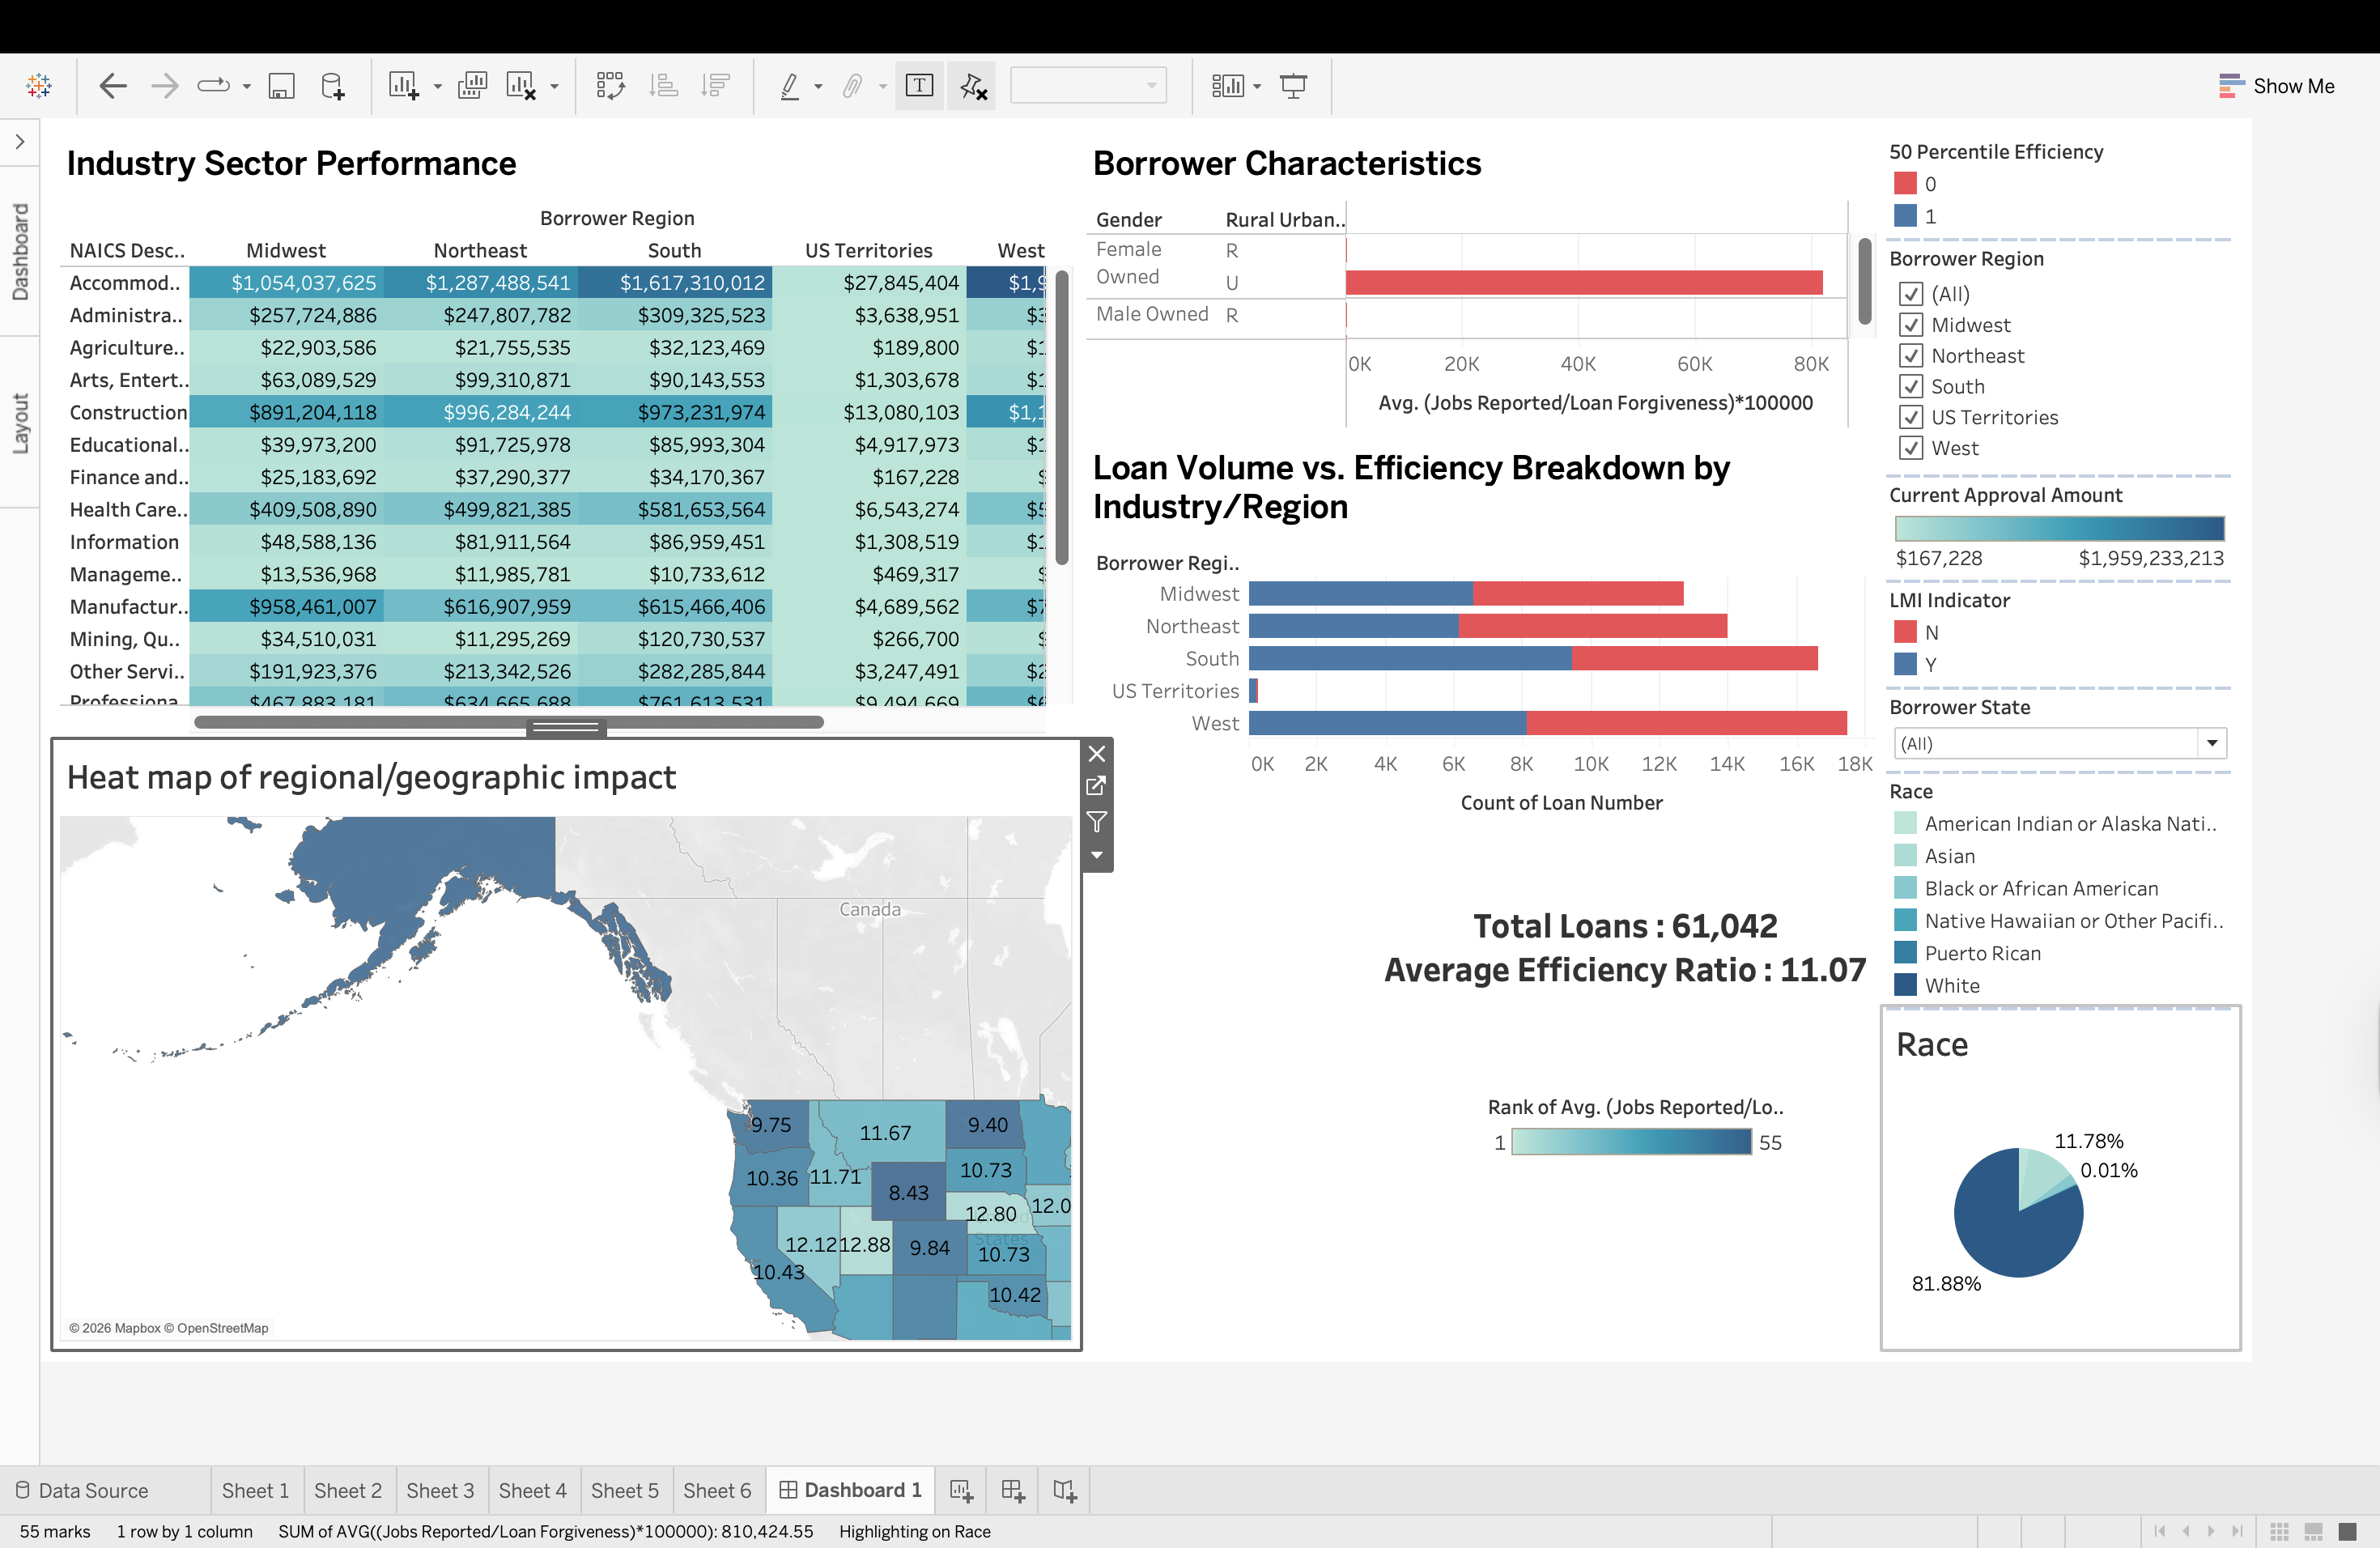

The dashboard page shown, as its layout file describes it:
{"tool":"tableau","page":{"name":"Dashboard 1","canvas":[1600,900],"ordinal":0},"visuals":[{"type":"worksheet","title":"Sheet 2","mark":"Square","rows":["NAICS Description"],"cols":["Borrower Region"],"box":[8,8,765.3,486]},{"type":"worksheet","title":"Sheet 5","mark":"Automatic","rows":["Gender","Rural Urban Indicator"],"cols":["(Jobs Reported/Loan Forgiveness)*100000"],"box":[773.3,8,598.7,221]},{"type":"legend","title":"Sheet 3","param":"[federated.1wd2r5a0b0h6hx0zyqk7n15ow0dm].[none:50_percentile_efficiency:ok]","box":[1372,8,220,72]},{"type":"filter","title":"Sheet 4","param":"[federated.1wd2r5a0b0h6hx0zyqk7n15ow0dm].[none:Borrower Region:nk]","box":[1372,80,220,174]},{"type":"worksheet","title":"Sheet 3","mark":"Automatic","rows":["Borrower Region"],"cols":["Loan Number"],"box":[773.3,229,598.7,265]},{"type":"legend","title":"Sheet 2","param":"[federated.1wd2r5a0b0h6hx0zyqk7n15ow0dm].[sum:Current Approval Amount:qk]","box":[1372,254,220,73]},{"type":"legend","title":"Sheet 5","param":"[federated.1wd2r5a0b0h6hx0zyqk7n15ow0dm].[none:LMI Indicator:nk]","box":[1372,327,220,72]},{"type":"filter","title":"Sheet 4","param":"[federated.1wd2r5a0b0h6hx0zyqk7n15ow0dm].[none:Borrower State:nk]","box":[1372,399,220,61]},{"type":"legend","title":"Sheet 6","param":"[federated.1wd2r5a0b0h6hx0zyqk7n15ow0dm].[none:Race:nk]","box":[1372,460,220,156]},{"type":"worksheet","title":"Sheet 4","mark":"Multipolygon","box":[8,494,1364,398]},{"type":"worksheet","title":"Sheet 1","mark":"Automatic","box":[961,551,410,96]},{"type":"worksheet","title":"Sheet 6","mark":"Pie","box":[1372,616,220,218]},{"type":"legend","title":"Sheet 4","param":"[federated.1wd2r5a0b0h6hx0zyqk7n15ow0dm].[rank:avg:(Jobs Reported/Loan Forgivene","box":[1047,705,219,88]}]}

Visuals, with their boxes on the page's 1600x900 design canvas (x1, y1, x2, y2). These are canvas units, not pixel positions in the 2380x1548 screenshot, which may show the page scaled, cropped or inside an application window:
"Sheet 2" worksheet (Square marks): box=[8, 8, 773, 494]
"Sheet 5" worksheet: box=[773, 8, 1372, 229]
"Sheet 3" legend: box=[1372, 8, 1592, 80]
"Sheet 4" filter: box=[1372, 80, 1592, 254]
"Sheet 3" worksheet: box=[773, 229, 1372, 494]
"Sheet 2" legend: box=[1372, 254, 1592, 327]
"Sheet 5" legend: box=[1372, 327, 1592, 399]
"Sheet 4" filter: box=[1372, 399, 1592, 460]
"Sheet 6" legend: box=[1372, 460, 1592, 616]
"Sheet 4" worksheet (Multipolygon marks): box=[8, 494, 1372, 892]
"Sheet 1" worksheet: box=[961, 551, 1371, 647]
"Sheet 6" worksheet (Pie marks): box=[1372, 616, 1592, 834]
"Sheet 4" legend: box=[1047, 705, 1266, 793]
